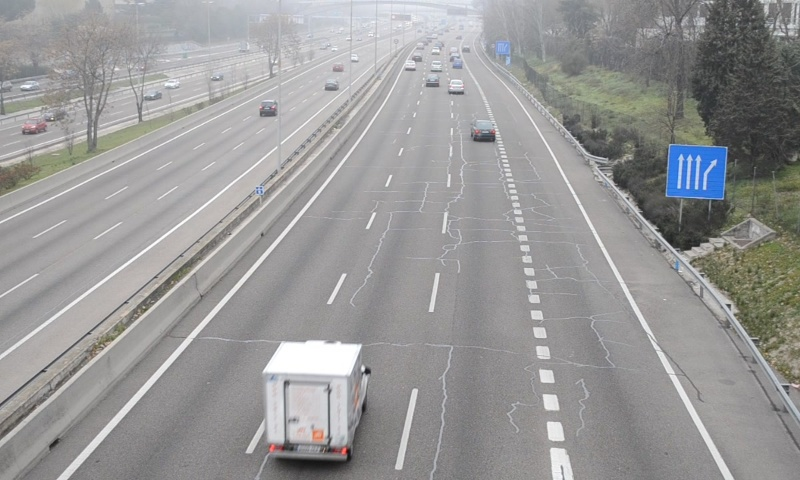car: (470, 118, 496, 142)
small-truck: (263, 341, 369, 461)
